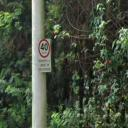speed_limit_40: (38, 39, 50, 58)
